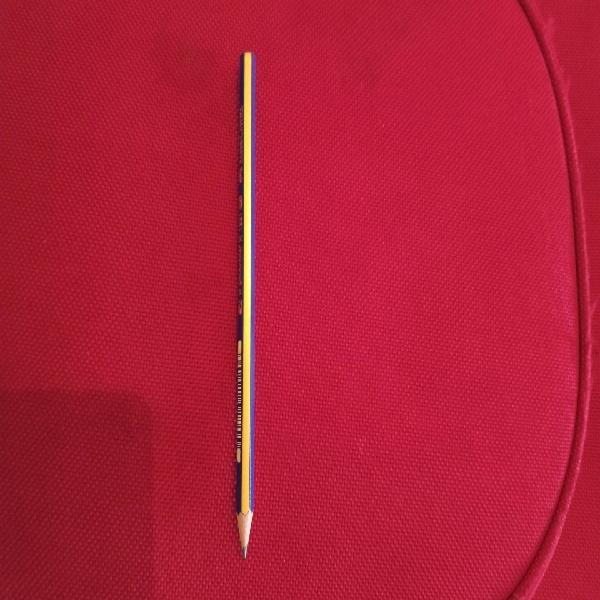pencil: (232, 48, 254, 560)
